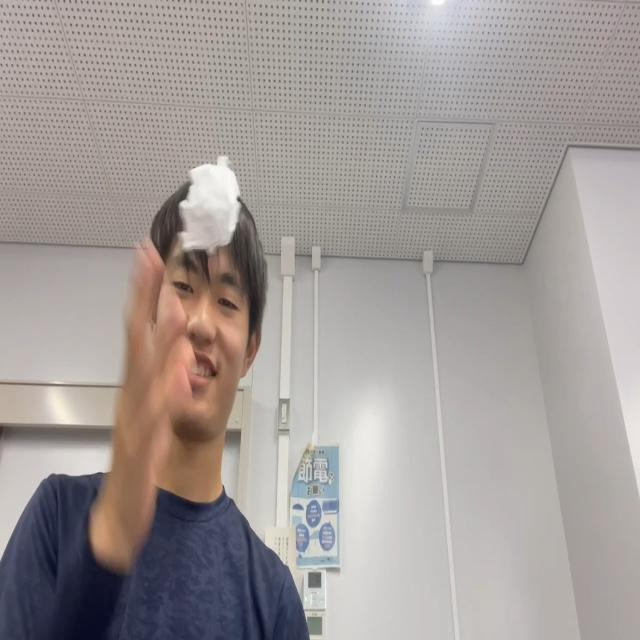paper: (176, 159, 242, 254)
